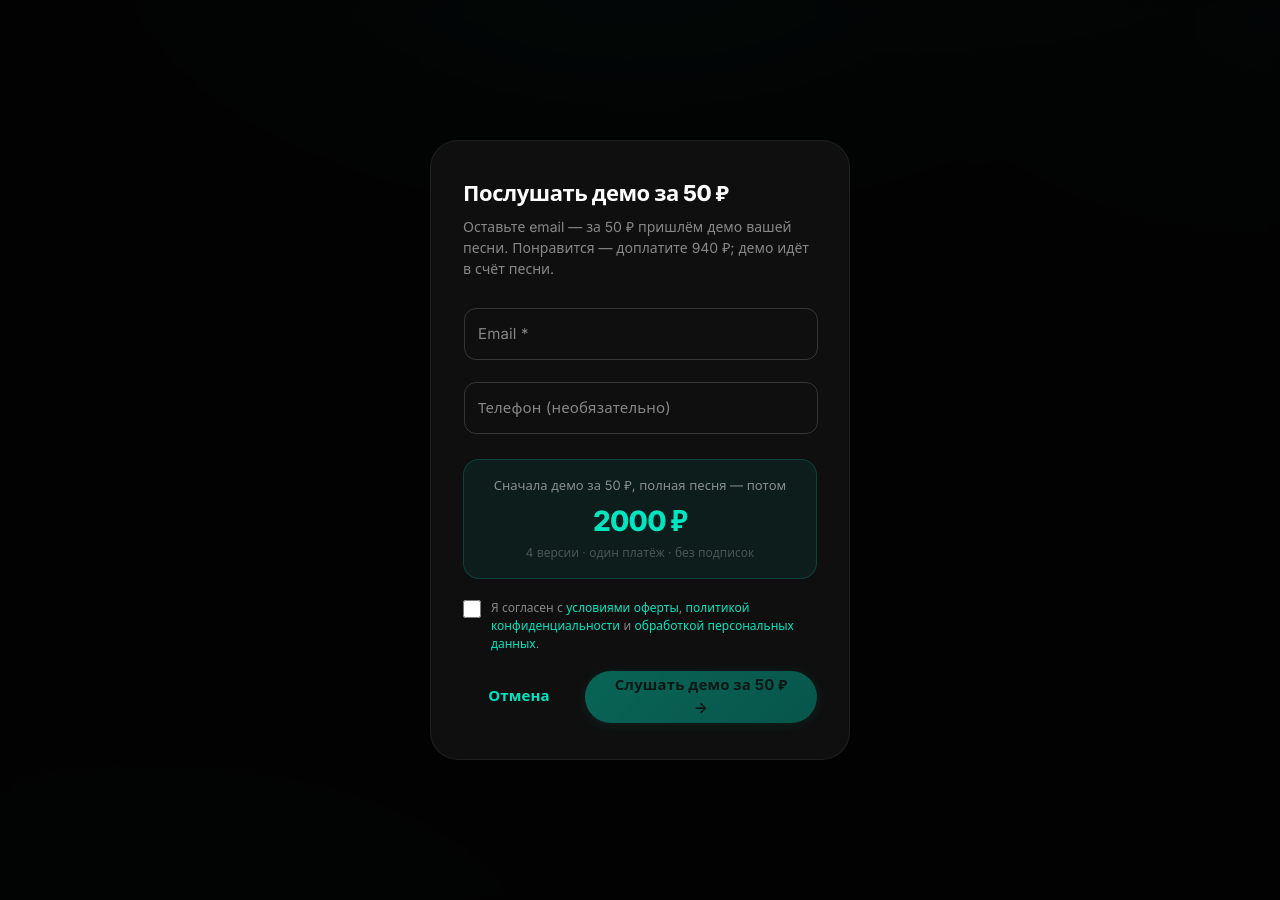
ContactModal › предлагает исправить опечатку в домене и применяет исправление по клику
The width and height of the screenshot is (1280, 900).
Type "ivan@gmial.com" into the field labelled "Email *" at (641, 334), box [464,308,818,360]
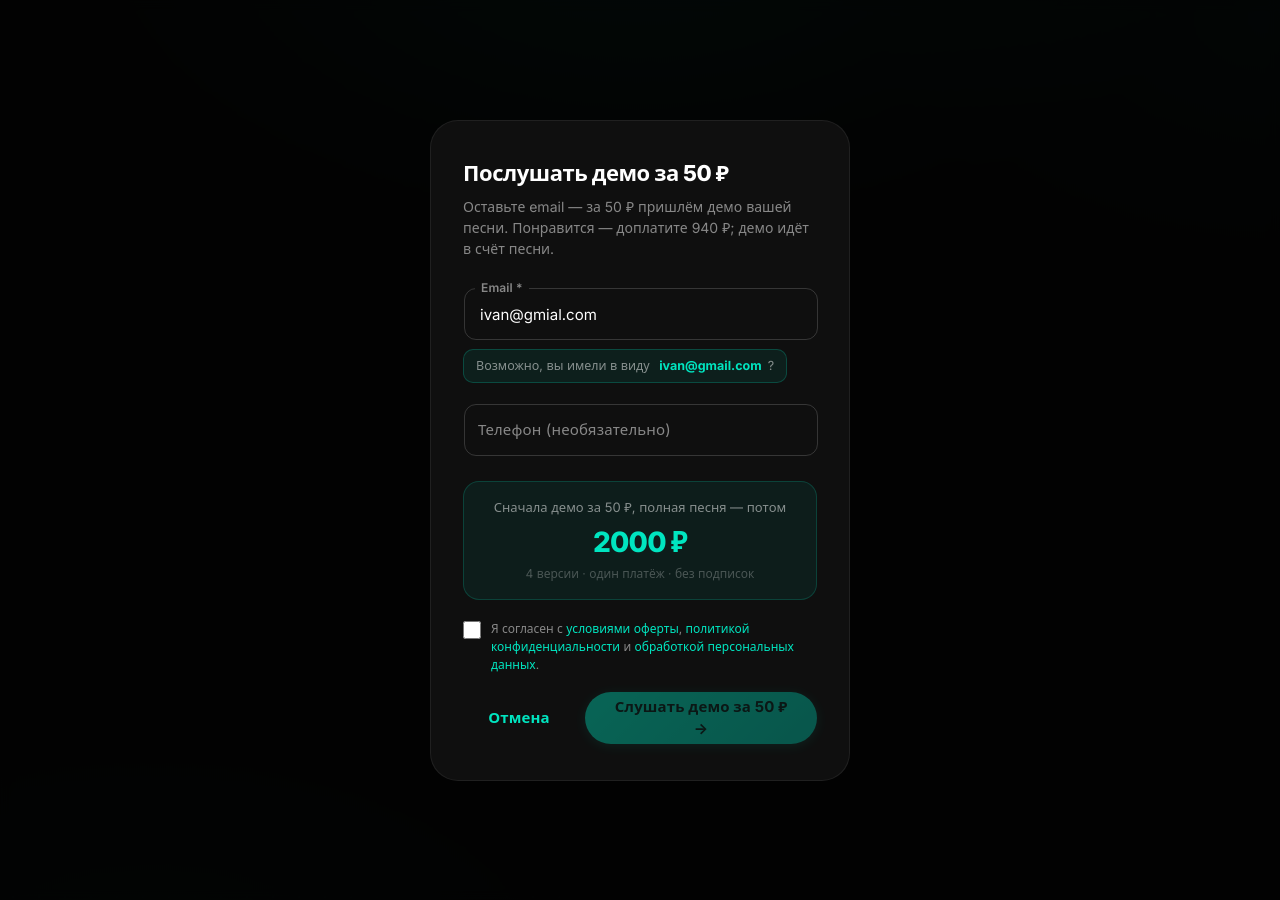
expect the button "Возможно, вы имели в виду ivan@gmail.com ?" is shown: met
Click the button "Возможно, вы имели в виду ivan@gmail.com ?" at (625, 365), box [463,348,787,382]
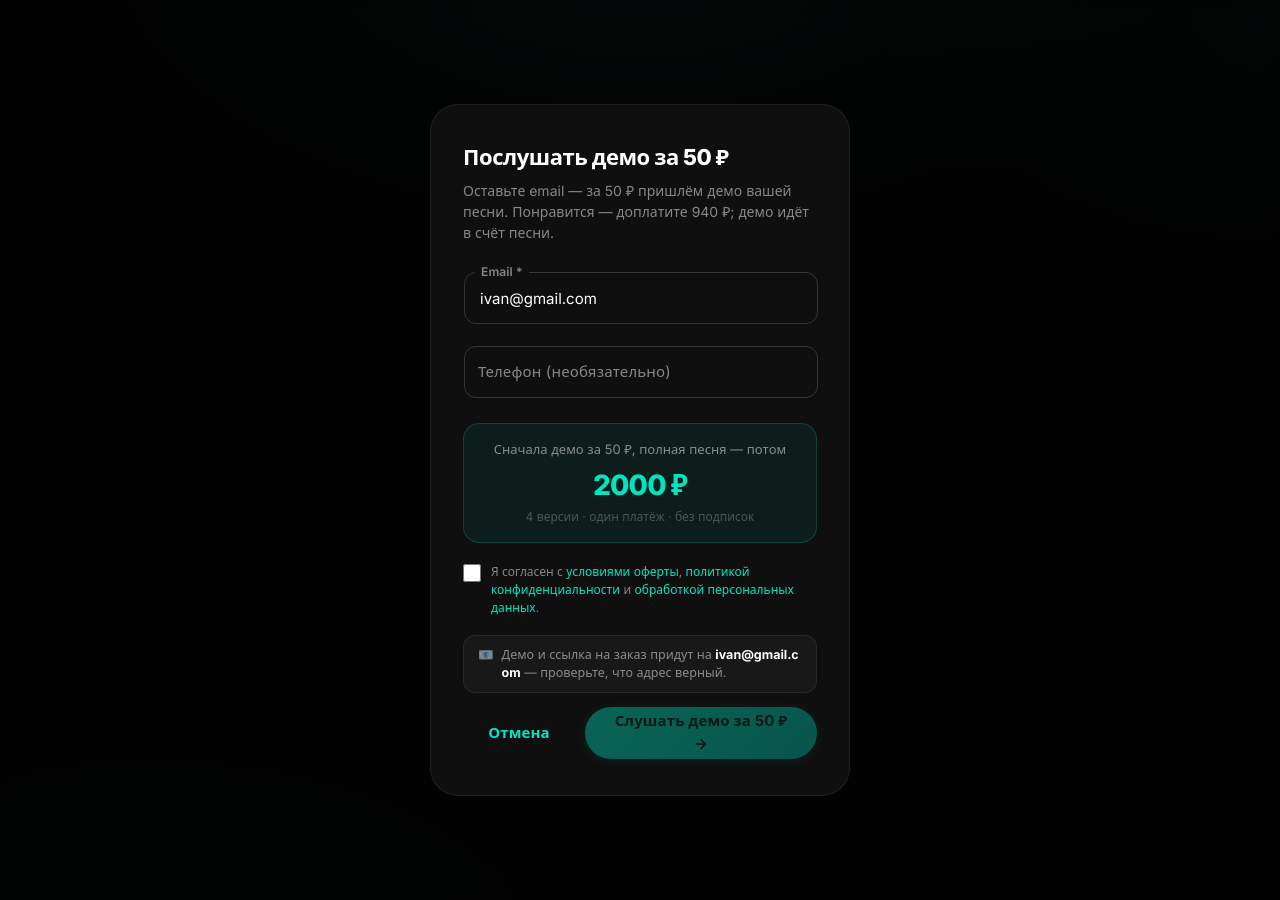
expect the field labelled "Email *" holds "ivan@gmail.com": met, box [464,272,818,324]
expect the button "Возможно" is gone: met
